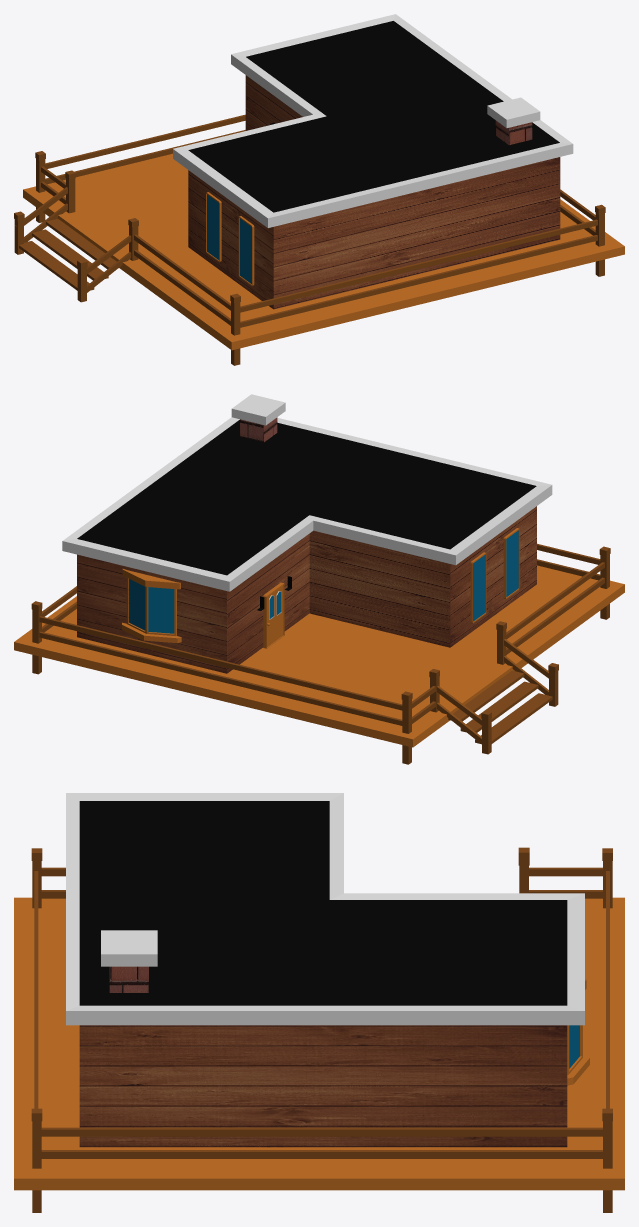
The model's file is Village_house_3.fbx.
3 renders of one model, top to bottom at view 1: azimuth 30°, elevation 25°; view 2: azimuth 150°, elevation 25°; view 3: azimuth 270°, elevation 25°, orthographic. The views are drawn at different scales.
Parts seen in each view (by area): view 1: Cube.313; view 2: Cube.313; view 3: Cube.313.
Part boxes in pixels (x1,y1,x2,y2): Cube.313: [14, 14, 624, 365]; Cube.313: [14, 394, 624, 764]; Cube.313: [14, 793, 624, 1212].
Bounding box in the file's own units: 2207 × 758 × 1830.
